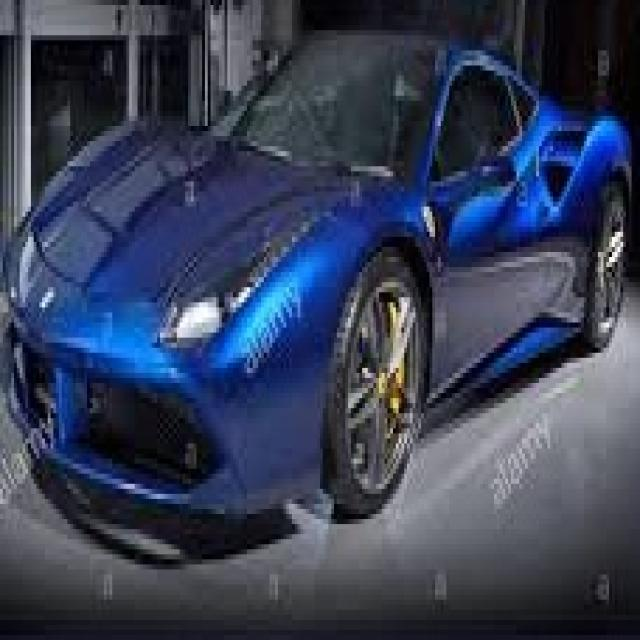blue: (20, 9, 623, 512)
